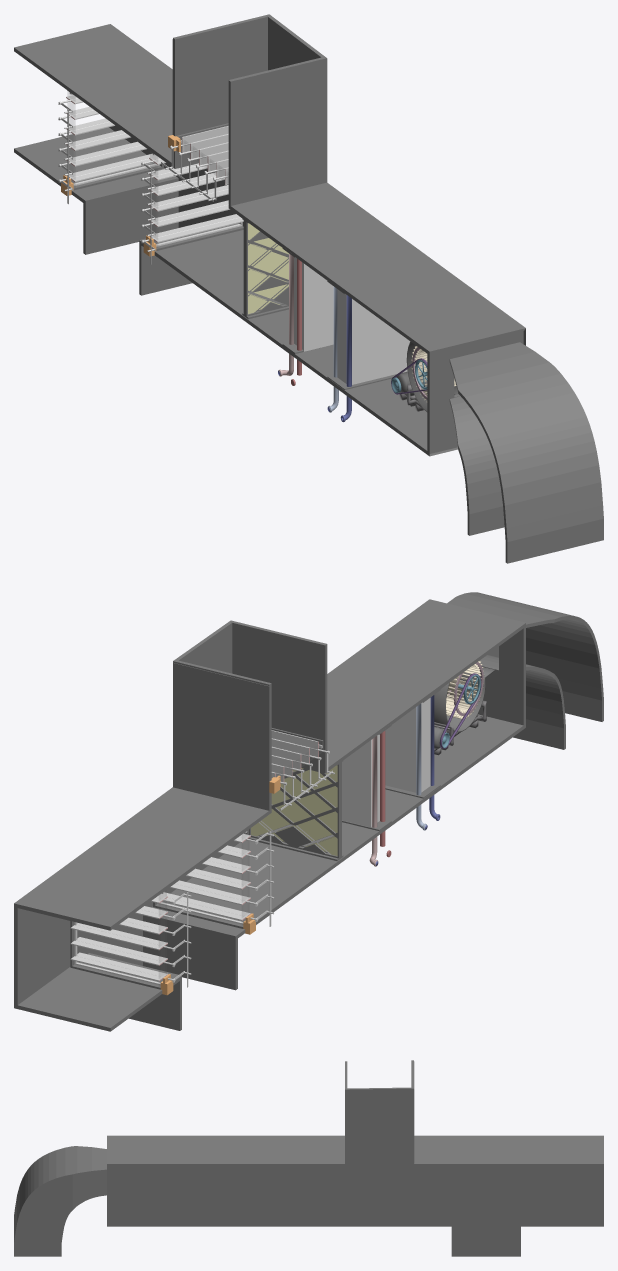
Rendered from rooftopLowpoly7_29_11_raj.dae.
3 views of the same model, one above another, from view 1: azimuth 30°, elevation 25°; view 2: azimuth 150°, elevation 25°; view 3: azimuth 270°, elevation 25° (orthographic). The views are drawn at different scales.
Visible parts, largest first — view 1: Layer_3, Layer_1, LeftDamper, Layer_2, Layer_4; view 2: Layer_3, Layer_1, Layer_4, LeftDamper, Layer_2; view 3: Layer_3, Layer_1.
Part boxes in pixels (x1,y1,x2,y2): Layer_3: (14,14,523,450); Layer_1: (141,123,603,563); LeftDamper: (58,90,163,204); Layer_2: (337,289,410,384); Layer_4: (14,39,427,454); Layer_3: (14,601,523,1031); Layer_1: (153,592,603,934); Layer_4: (110,620,523,939); LeftDamper: (70,890,191,995); Layer_2: (385,698,430,792); Layer_3: (110,1060,603,1256); Layer_1: (14,1135,109,1256).
Bounding box in the file's own units: 2.07 × 15.9 × 4.99.
